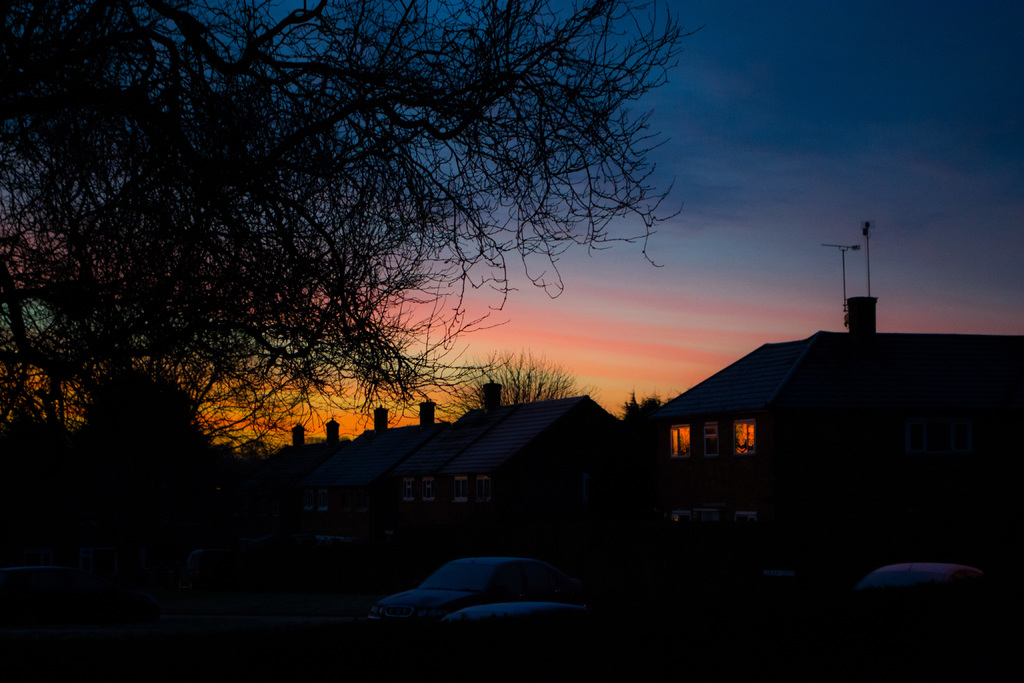Tree: (0, 0, 686, 477), (432, 344, 590, 419)
